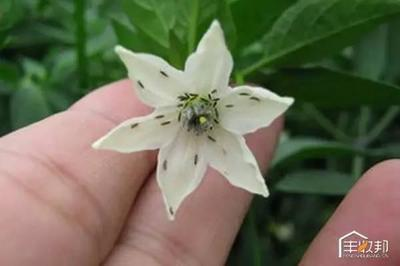tiny_pests: (156, 68, 174, 83), (205, 133, 222, 147), (134, 77, 147, 93), (237, 88, 253, 101), (151, 109, 168, 121), (192, 152, 200, 171), (224, 100, 236, 112), (157, 119, 174, 127), (249, 95, 264, 104), (161, 158, 169, 173), (128, 122, 142, 130)
